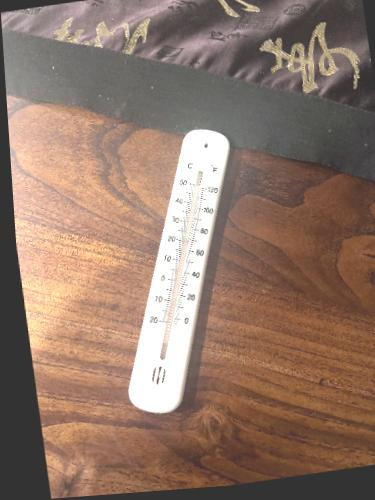thermo: (125, 128, 239, 412)
